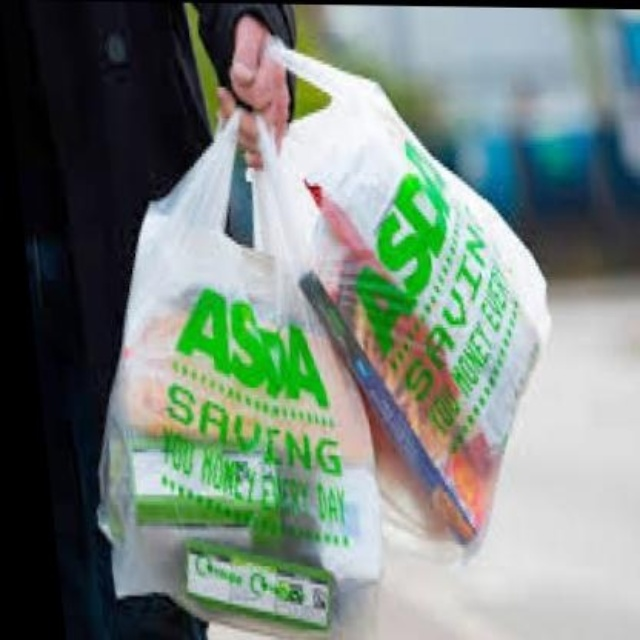trash: (102, 111, 380, 631), (272, 43, 548, 540)
